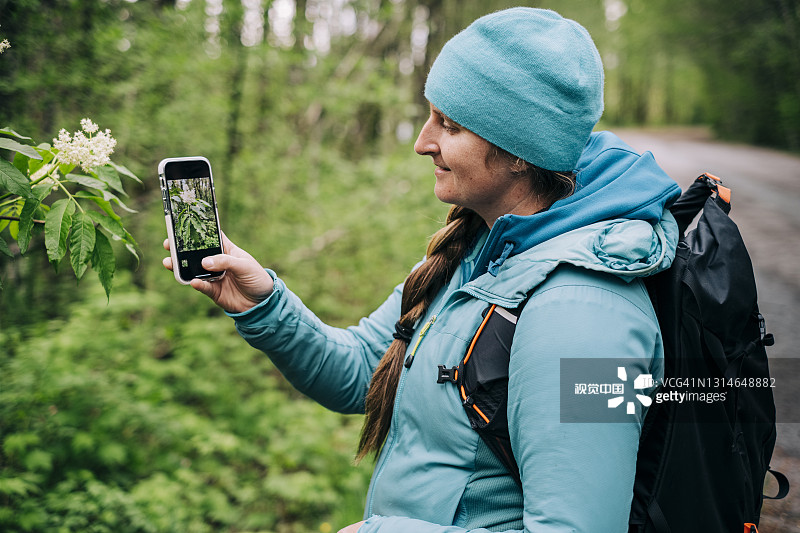taking photos: (149, 159, 281, 321)
